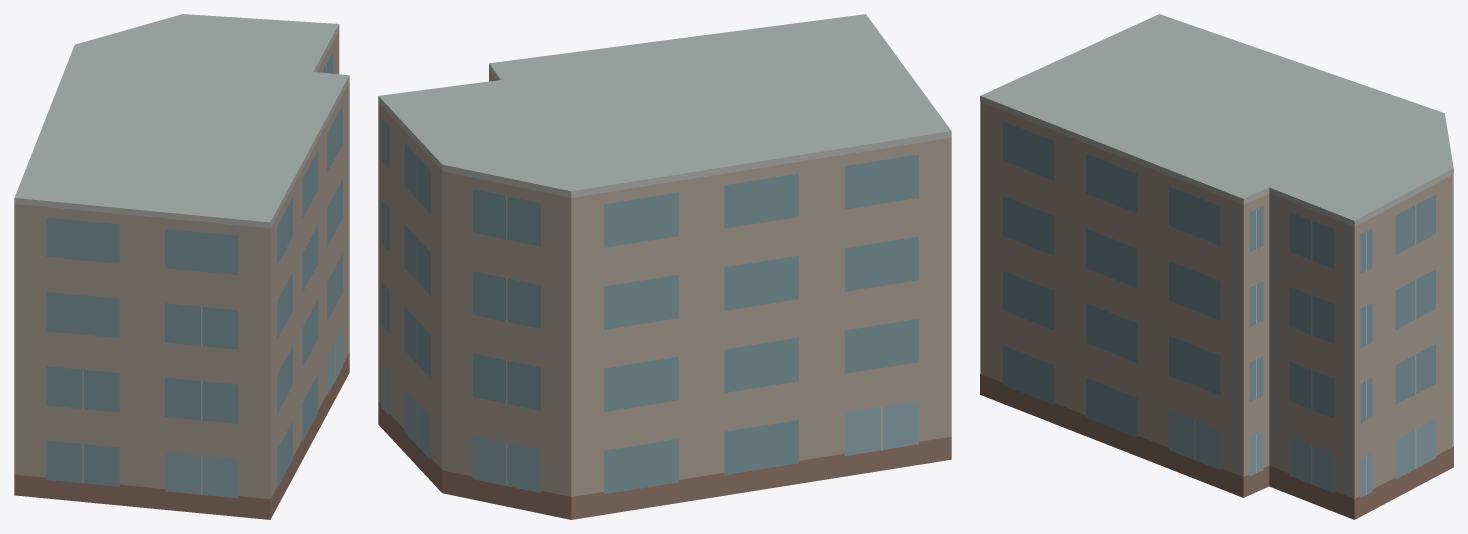
Rendered from survey-upis-32691829.glb.
3 renders of one model, left to right at view 1: azimuth 30°, elevation 25°; view 2: azimuth 150°, elevation 25°; view 3: azimuth 270°, elevation 25°, orthographic. The views are drawn at different scales.
Visible parts, largest first — view 1: survey-upis-32691829.tmp; view 2: survey-upis-32691829.tmp; view 3: survey-upis-32691829.tmp.
Part boxes in pixels (<box>): survey-upis-32691829.tmp: <box>14,14,349,519</box>; survey-upis-32691829.tmp: <box>378,14,951,519</box>; survey-upis-32691829.tmp: <box>980,14,1453,519</box>.
Size of the model in its own units: 17.97 by 12.1 by 17.38.
